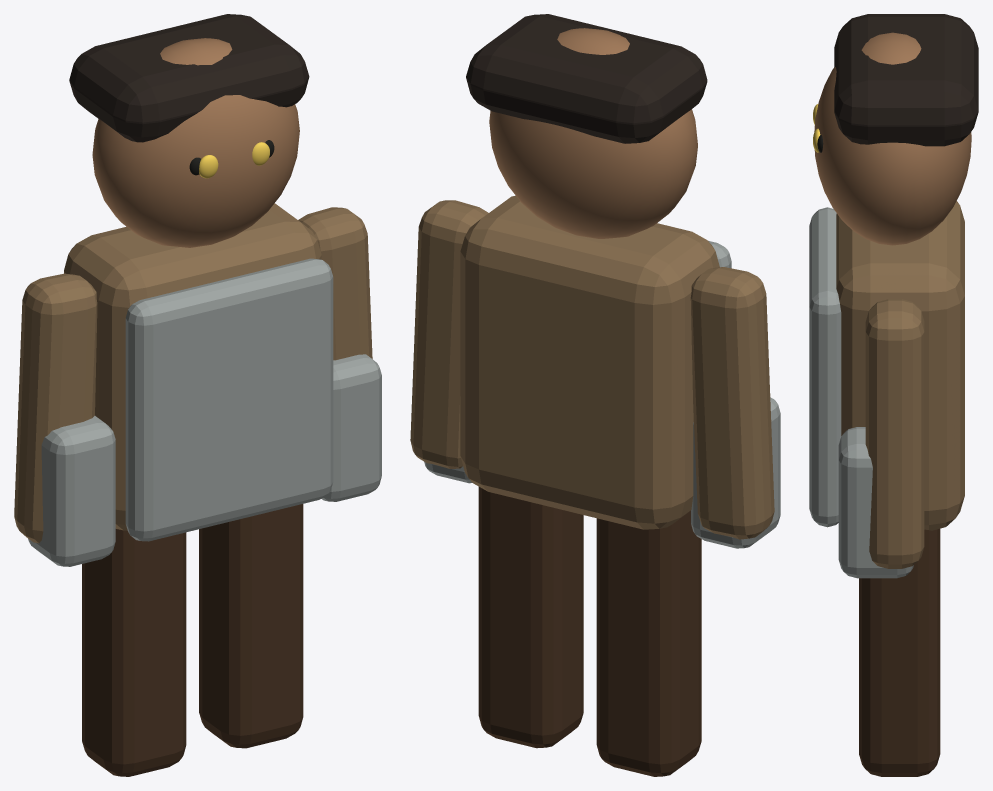
The model's file is oscar_4182.glb.
3 views of the same model, side by side, from view 1: azimuth 30°, elevation 25°; view 2: azimuth 150°, elevation 25°; view 3: azimuth 270°, elevation 25° (orthographic). The views are drawn at different scales.
Parts seen in each view (by area): view 1: Guild breastplate, Booted leg, Booted leg.001, Head, Hair, Fitted torso, Detailed arm, Guildmaster bracer, Guildmaster bracer.001, Detailed arm.001; view 2: Fitted torso, Booted leg, Booted leg.001, Hair, Detailed arm, Head, Detailed arm.001, Guildmaster bracer; view 3: Fitted torso, Booted leg.001, Hair, Head, Detailed arm.001, Guild breastplate, Guildmaster bracer.001.
Part boxes in pixels (x1,y1,x2,y2): Guild breastplate: (125, 258, 333, 541); Booted leg: (82, 529, 186, 776); Booted leg.001: (199, 504, 303, 748); Head: (92, 38, 299, 247); Hair: (69, 14, 309, 142); Fitted torso: (64, 203, 321, 530); Detailed arm: (14, 273, 97, 543); Guildmaster bracer: (28, 416, 115, 566); Guildmaster bracer.001: (321, 354, 381, 501); Detailed arm.001: (298, 207, 372, 360); Fitted torso: (460, 195, 719, 529); Booted leg: (596, 511, 701, 776); Booted leg.001: (478, 487, 583, 748); Hair: (466, 14, 707, 143); Detailed arm: (690, 267, 774, 539); Head: (489, 28, 697, 238); Detailed arm.001: (410, 200, 488, 468); Guildmaster bracer: (691, 397, 780, 548); Fitted torso: (836, 201, 964, 530); Booted leg.001: (859, 528, 940, 776); Hair: (834, 14, 978, 146); Head: (814, 32, 971, 245); Detailed arm.001: (865, 299, 924, 568); Guild breastplate: (809, 207, 841, 527); Guildmaster bracer.001: (838, 427, 913, 578).
Bounding box in the file's own units: 1.76 × 3.4 × 0.75.
